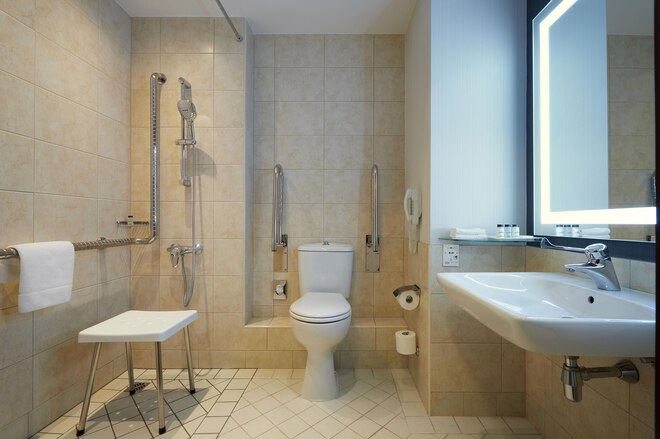dispenser: (390, 285, 426, 309)
faucet: (532, 232, 625, 292), (169, 244, 201, 269)
restroom_assist_bar: (143, 64, 165, 255), (1, 235, 150, 260), (270, 161, 287, 253), (369, 161, 383, 261)
sink: (426, 269, 660, 404)
table: (76, 309, 199, 439)
telephone: (395, 185, 425, 250)
toilet: (289, 238, 355, 402)
